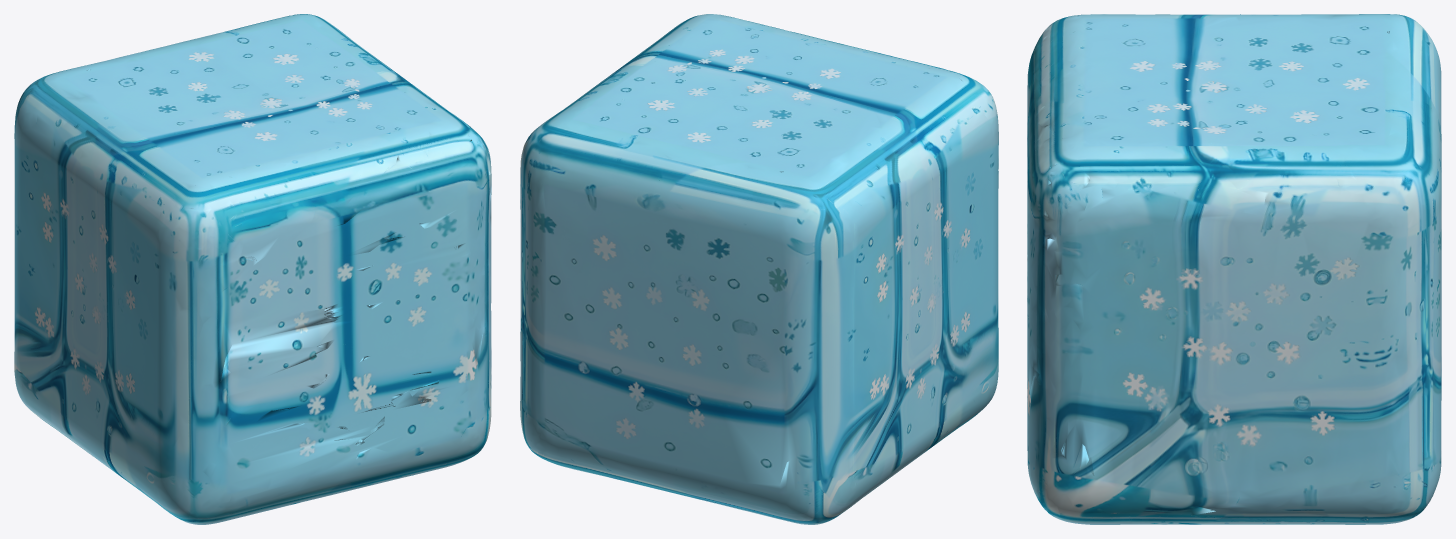
3 views of the same model, side by side, from view 1: azimuth 30°, elevation 25°; view 2: azimuth 150°, elevation 25°; view 3: azimuth 270°, elevation 25° (orthographic). The views are drawn at different scales.
Visible parts, largest first — view 1: Meshy_AI_ice_cube_squishy_0803111452_image-to-3d-texture; view 2: Meshy_AI_ice_cube_squishy_0803111452_image-to-3d-texture; view 3: Meshy_AI_ice_cube_squishy_0803111452_image-to-3d-texture.
Part boxes in pixels (x1=…): Meshy_AI_ice_cube_squishy_0803111452_image-to-3d-texture: x1=14, y1=14, x2=491, y2=524; Meshy_AI_ice_cube_squishy_0803111452_image-to-3d-texture: x1=520, y1=14, x2=998, y2=524; Meshy_AI_ice_cube_squishy_0803111452_image-to-3d-texture: x1=1027, y1=14, x2=1441, y2=524.
Size of the model in its own units: 1.9 by 1.9 by 1.9.
Materials: 1 (1 with a texture image).
